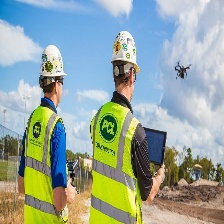helmet: (110, 32, 140, 75), (40, 44, 69, 79)
person: (90, 29, 154, 224), (17, 44, 70, 224)
vest: (93, 98, 142, 224), (26, 105, 62, 224)
